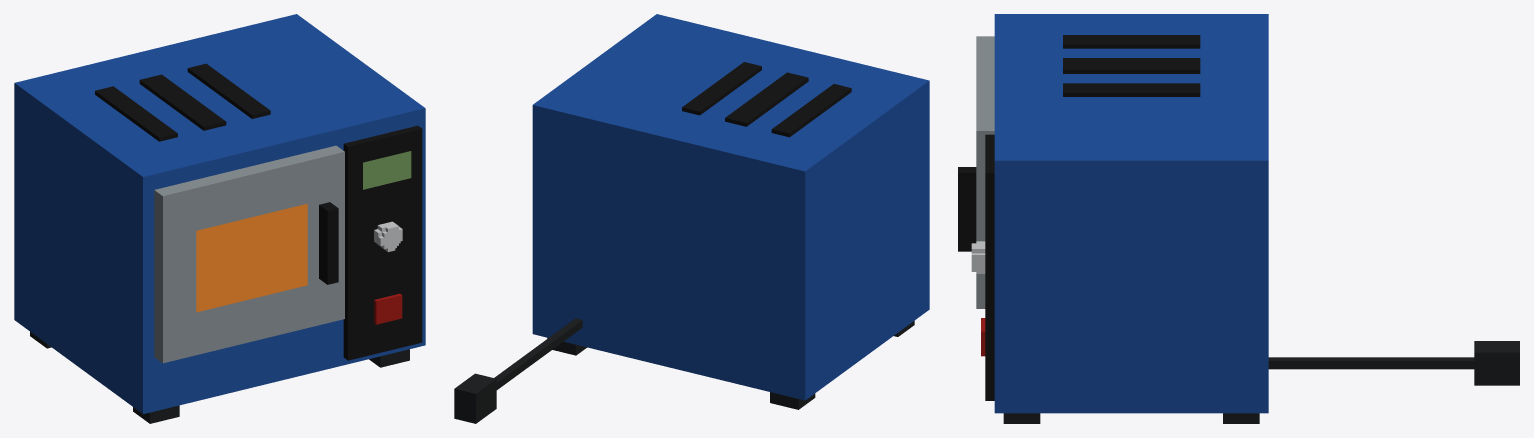
File: forge.glb
The picture shows the model from 3 angles, left to right: view 1: azimuth 30°, elevation 25°; view 2: azimuth 150°, elevation 25°; view 3: azimuth 270°, elevation 25°; orthographic projection. The views are drawn at different scales.
Parts seen in each view (by area): view 1: forge:compound; view 2: forge:compound; view 3: forge:compound.
Boxes of the visible parts, x1=… form: forge:compound: x1=14, y1=14, x2=425, y2=423; forge:compound: x1=454, y1=14, x2=929, y2=423; forge:compound: x1=958, y1=14, x2=1519, y2=423.
Bounding box in the file's own units: 0.304 × 0.264 × 0.492.
